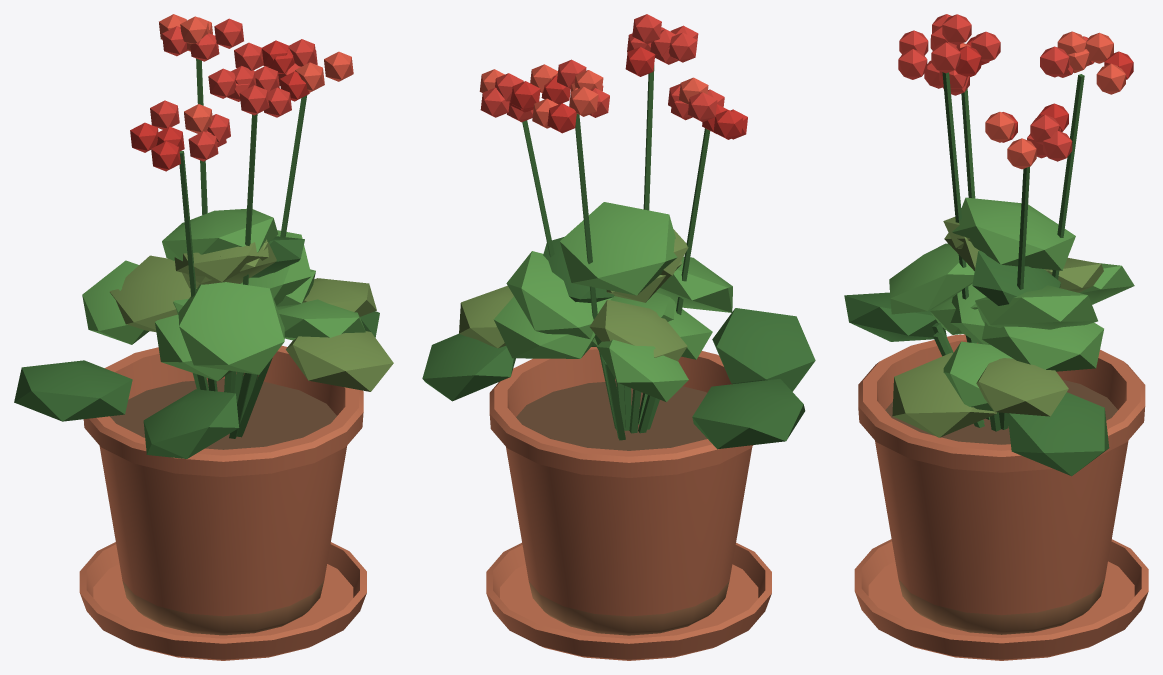
File: SC_Home_Potted_Plant_Geranium.gltf
3 views of the same model, side by side, from view 1: azimuth 30°, elevation 25°; view 2: azimuth 150°, elevation 25°; view 3: azimuth 270°, elevation 25° (orthographic). The views are drawn at different scales.
Visible parts, largest first — view 1: SC_Home_Potted_Plant_Geranium; view 2: SC_Home_Potted_Plant_Geranium; view 3: SC_Home_Potted_Plant_Geranium.
Part boxes in pixels (left/top/right/bottom): SC_Home_Potted_Plant_Geranium: left=14, top=14, right=393, bottom=660; SC_Home_Potted_Plant_Geranium: left=422, top=14, right=815, bottom=660; SC_Home_Potted_Plant_Geranium: left=844, top=14, right=1148, bottom=660.
Size of the model in its own units: 0.3604 by 0.5508 by 0.257.
Materials: 1 (1 with a texture image).
